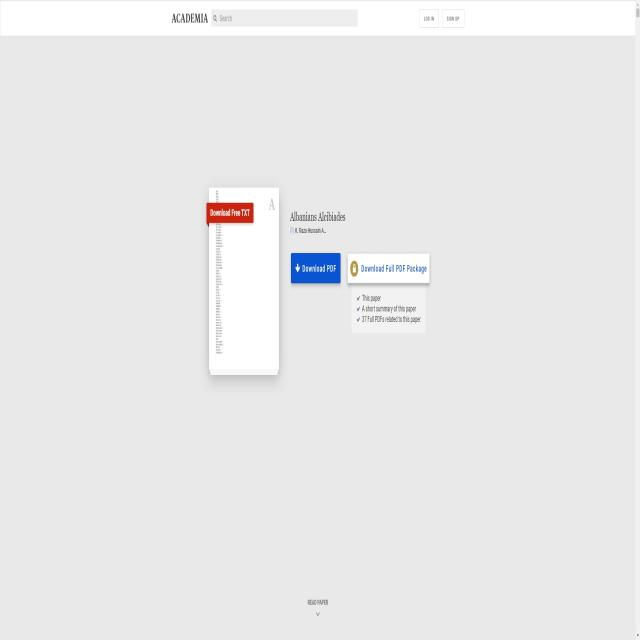search: (211, 9, 358, 27)
